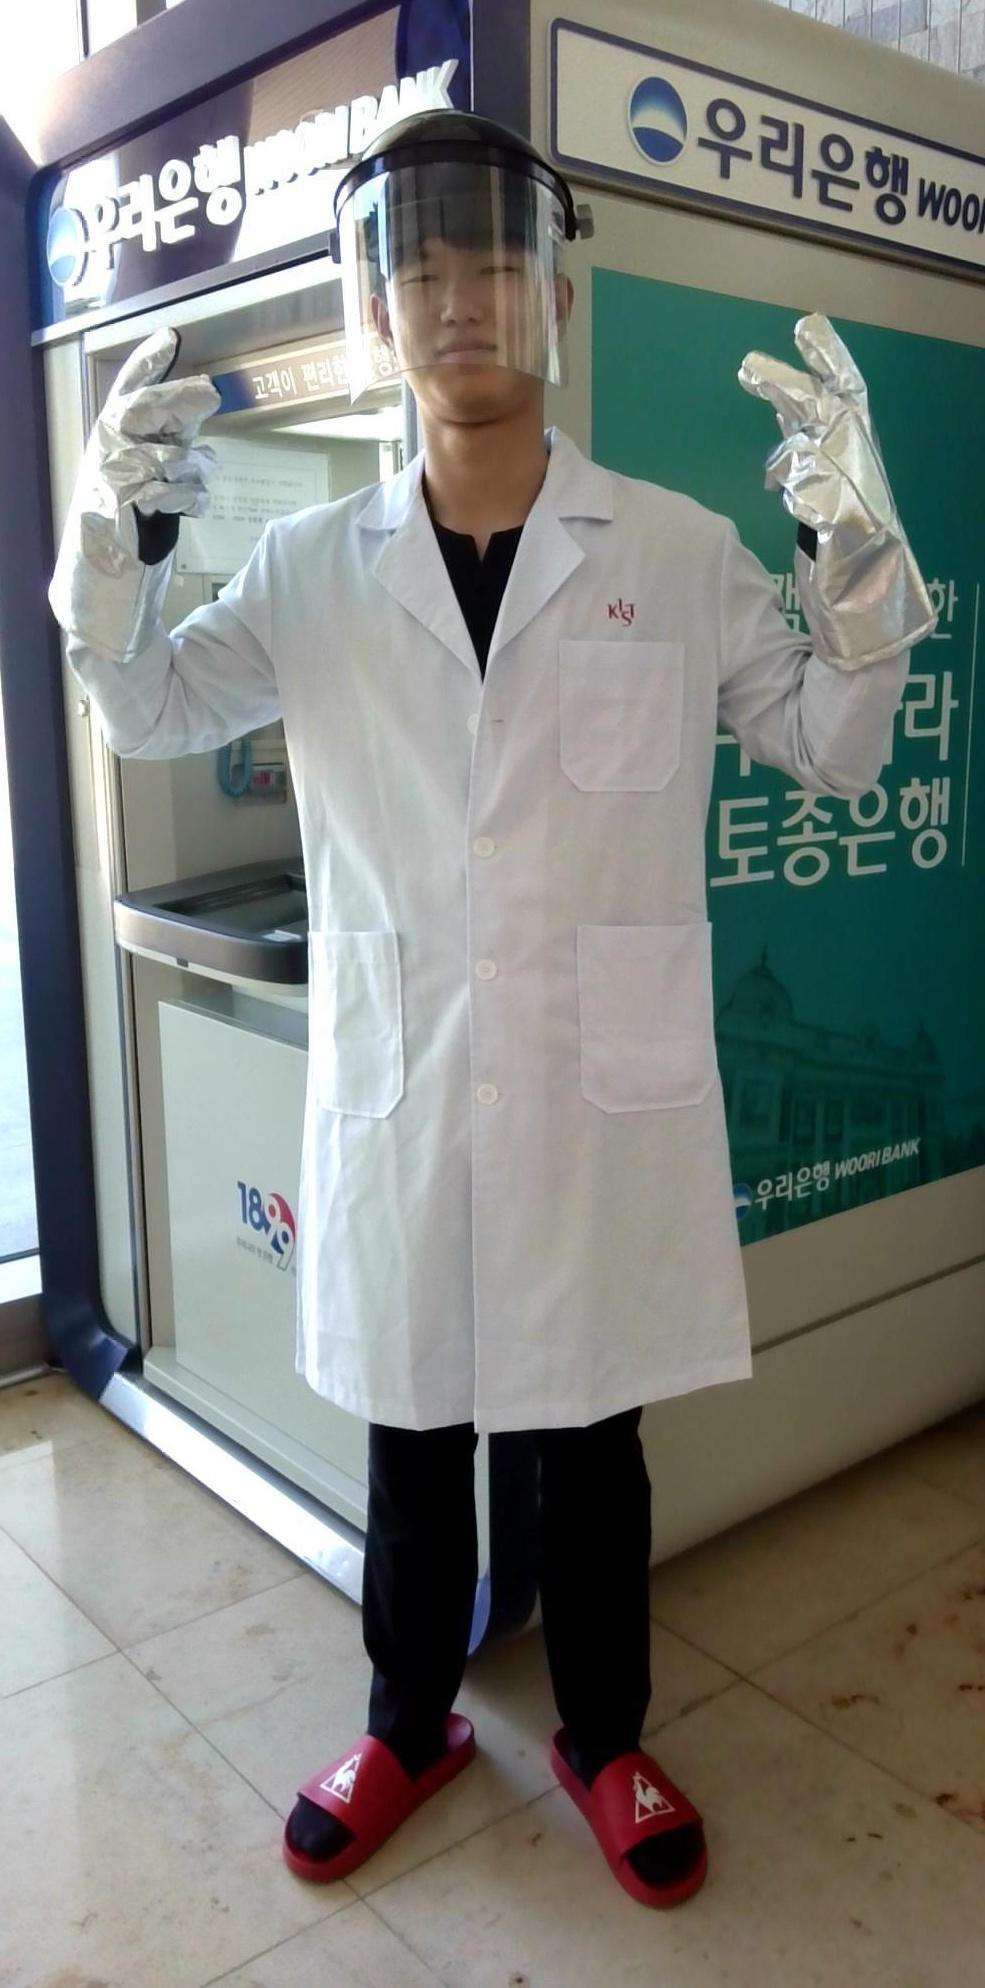lab_coat: (213, 516, 756, 1424)
